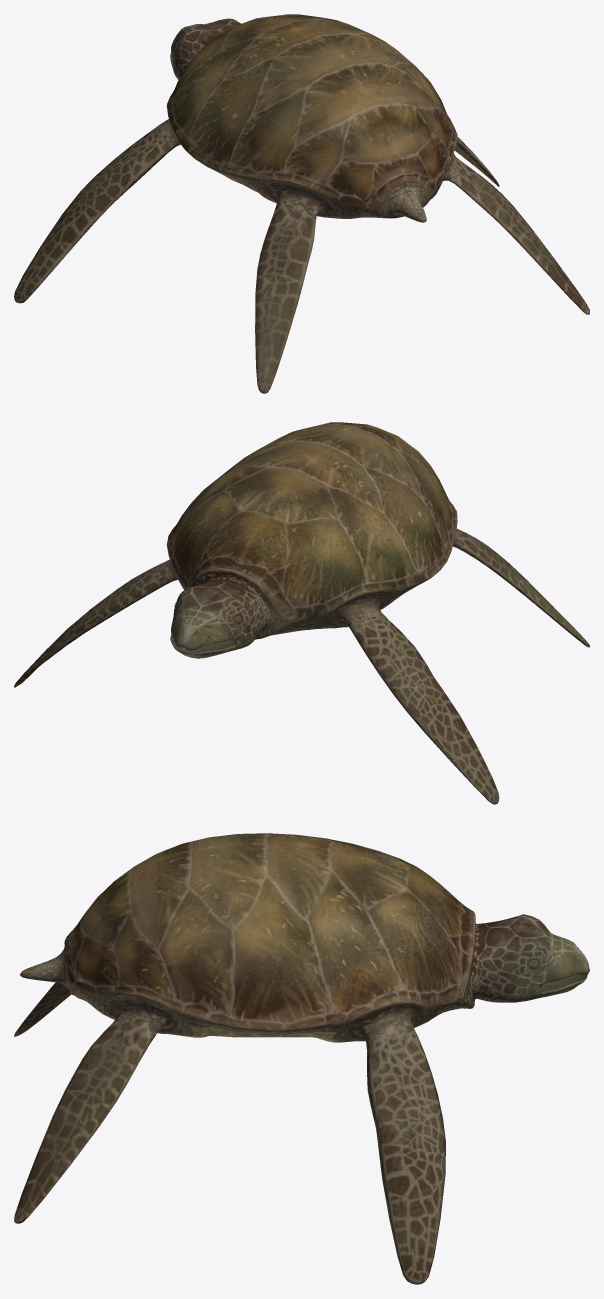
The model's file is sea-turtle.glb.
The picture shows the model from 3 angles, top to bottom: view 1: azimuth 30°, elevation 25°; view 2: azimuth 150°, elevation 25°; view 3: azimuth 270°, elevation 25°; orthographic projection. The views are drawn at different scales.
Parts seen in each view (by area): view 1: sea_turtle; view 2: sea_turtle; view 3: sea_turtle.
Boxes of the visible parts, x1=… form: sea_turtle: x1=14, y1=14, x2=589, y2=393; sea_turtle: x1=14, y1=422, x2=589, y2=804; sea_turtle: x1=14, y1=833, x2=589, y2=1284.
Size of the model in its own units: 1.14 by 0.5766 by 1.
Materials: 2 (2 with a texture image).
